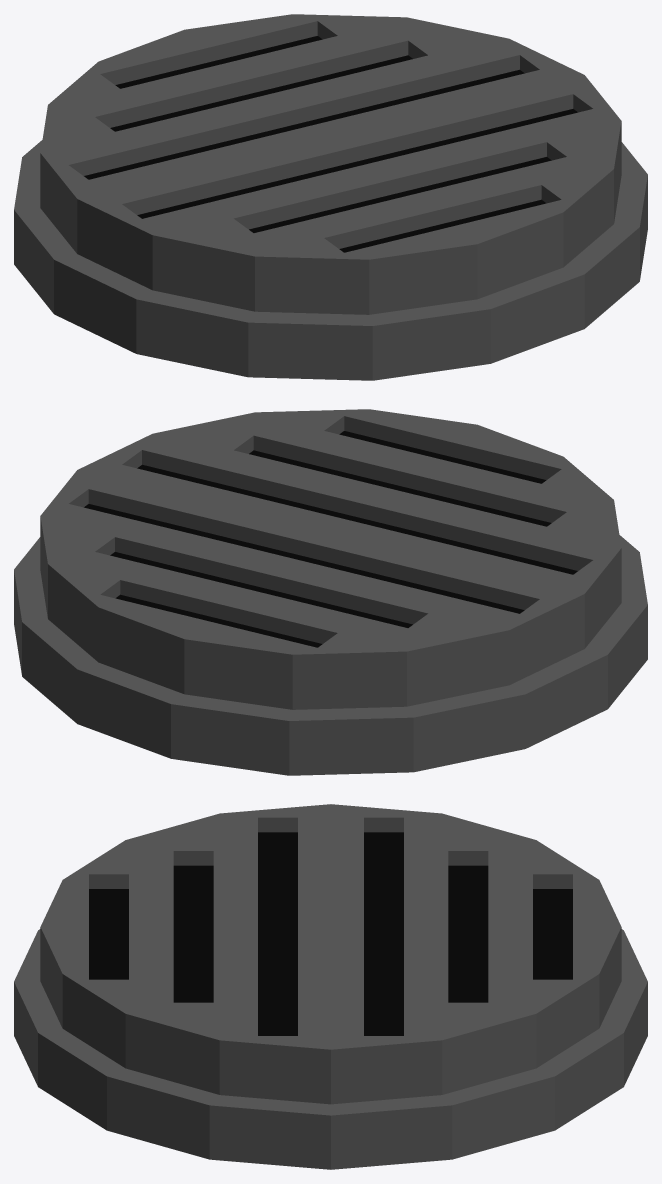
File: Prop_RoofVent_03.fbx
The picture shows the model from 3 angles, top to bottom: view 1: azimuth 30°, elevation 25°; view 2: azimuth 150°, elevation 25°; view 3: azimuth 270°, elevation 25°; orthographic projection.
Visible parts, largest first — view 1: Prop_RoofVent_03; view 2: Prop_RoofVent_03; view 3: Prop_RoofVent_03.
Part boxes in pixels (x1,y1,x2,y2): Prop_RoofVent_03: (14, 14, 647, 380); Prop_RoofVent_03: (14, 409, 647, 775); Prop_RoofVent_03: (14, 804, 647, 1169).
Size of the model in its own units: 102 by 19.34 by 102.
